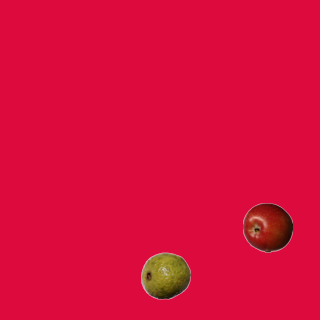Apple Braeburn: (242, 202, 292, 252)
Guava: (140, 250, 190, 300)
